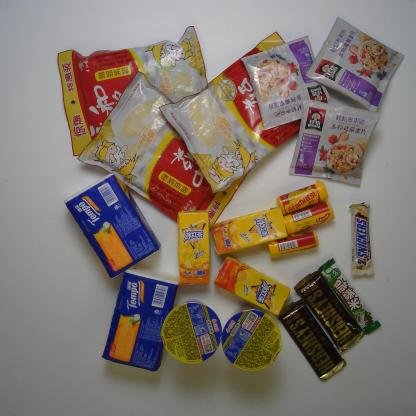Candy: (274, 178, 331, 217), (280, 200, 336, 237), (264, 227, 322, 259)
Chocolate: (291, 268, 368, 356), (274, 296, 348, 384), (315, 256, 384, 338), (344, 198, 377, 278)
Drink: (212, 254, 293, 317), (208, 205, 290, 256), (171, 207, 213, 289)
Instant Drink: (75, 70, 254, 237), (154, 29, 314, 200), (54, 22, 218, 162), (303, 14, 406, 115), (240, 34, 335, 132), (287, 96, 384, 189)
Instant Noodles: (220, 302, 284, 373), (159, 298, 224, 366)
Tissue: (62, 170, 163, 282), (99, 262, 185, 374)
